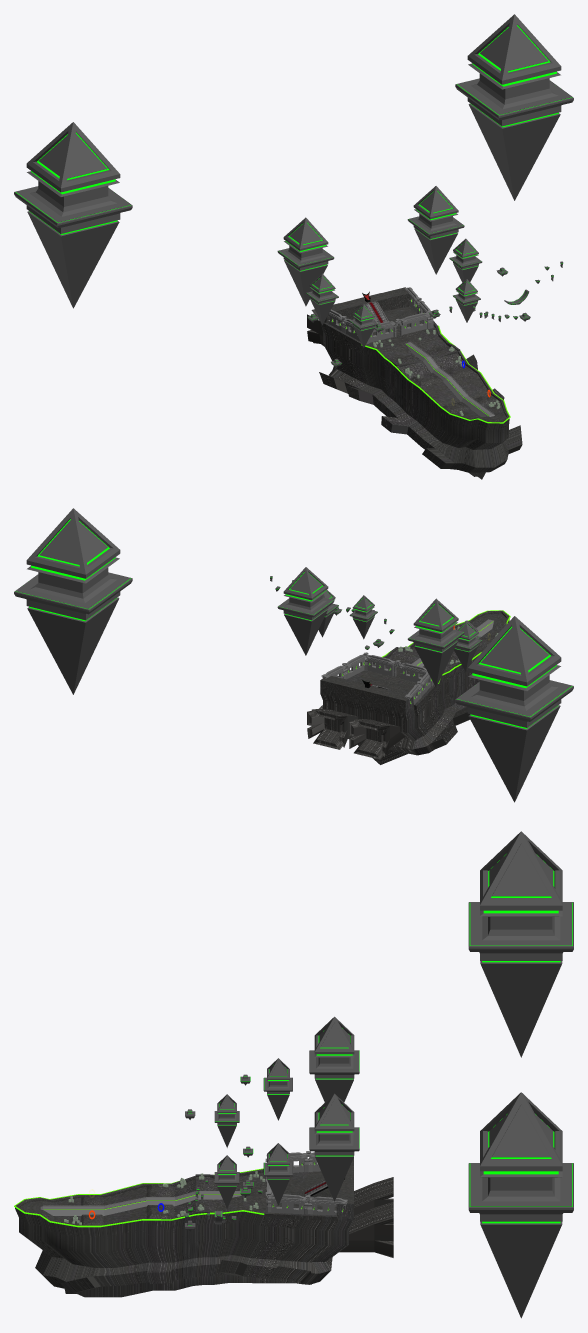
The model's file is World1.glb.
The picture shows the model from 3 angles, top to bottom: view 1: azimuth 30°, elevation 25°; view 2: azimuth 150°, elevation 25°; view 3: azimuth 270°, elevation 25°; orthographic projection. The views are drawn at different scales.
Parts seen in each view (by area): view 1: BigTower.004, Landscape_ShipFloor, BigTower.002, BigTower.001, BigTower.003, Cube.001, ShipWall; view 2: BigTower.004, Landscape_ShipFloor, BigTower.002, BigTower.001, ShipWall, BigTower.003, ShipWall.001; view 3: Landscape_ShipFloor, BigTower.004, BigTower.002, BigTower.001, Cube.001, BigTower.003, ShipWall.001, outerBeam, ShipWall.003.
Part boxes in pixels (x1,y1,x2,y2): BigTower.004: (14,14,573,308); Landscape_ShipFloor: (307,287,522,479); BigTower.002: (277,186,464,306); BigTower.001: (306,238,482,324); BigTower.003: (350,279,480,348); Cube.001: (405,342,494,417); ShipWall: (369,313,429,342); BigTower.004: (14,508,573,802); Landscape_ShipFloor: (307,610,509,764); BigTower.002: (277,567,464,687); BigTower.001: (318,590,482,671); ShipWall: (366,655,427,682); BigTower.003: (349,595,480,639); ShipWall.001: (346,654,432,695); Landscape_ShipFloor: (15,1158,393,1297); BigTower.004: (468,831,573,1318); BigTower.002: (309,1016,359,1201); BigTower.001: (263,1058,292,1205); Cube.001: (40,1191,241,1215); BigTower.003: (214,1094,239,1208); ShipWall.001: (268,1152,306,1214); outerBeam: (14,1168,264,1227); ShipWall.003: (309,1152,347,1215).
Bounding box in the file's own units: 546 × 280 × 423.
21 materials, 7 textured.
